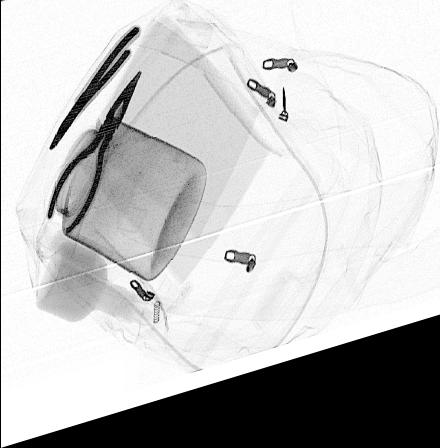Pliers: (45, 78, 143, 240), (48, 31, 141, 155)
